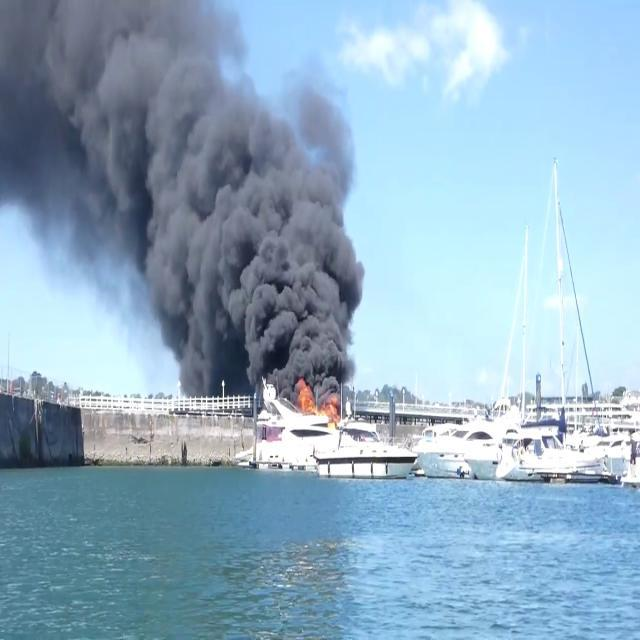Fire: (294, 376, 341, 426)
Smoke: (0, 0, 370, 391)
